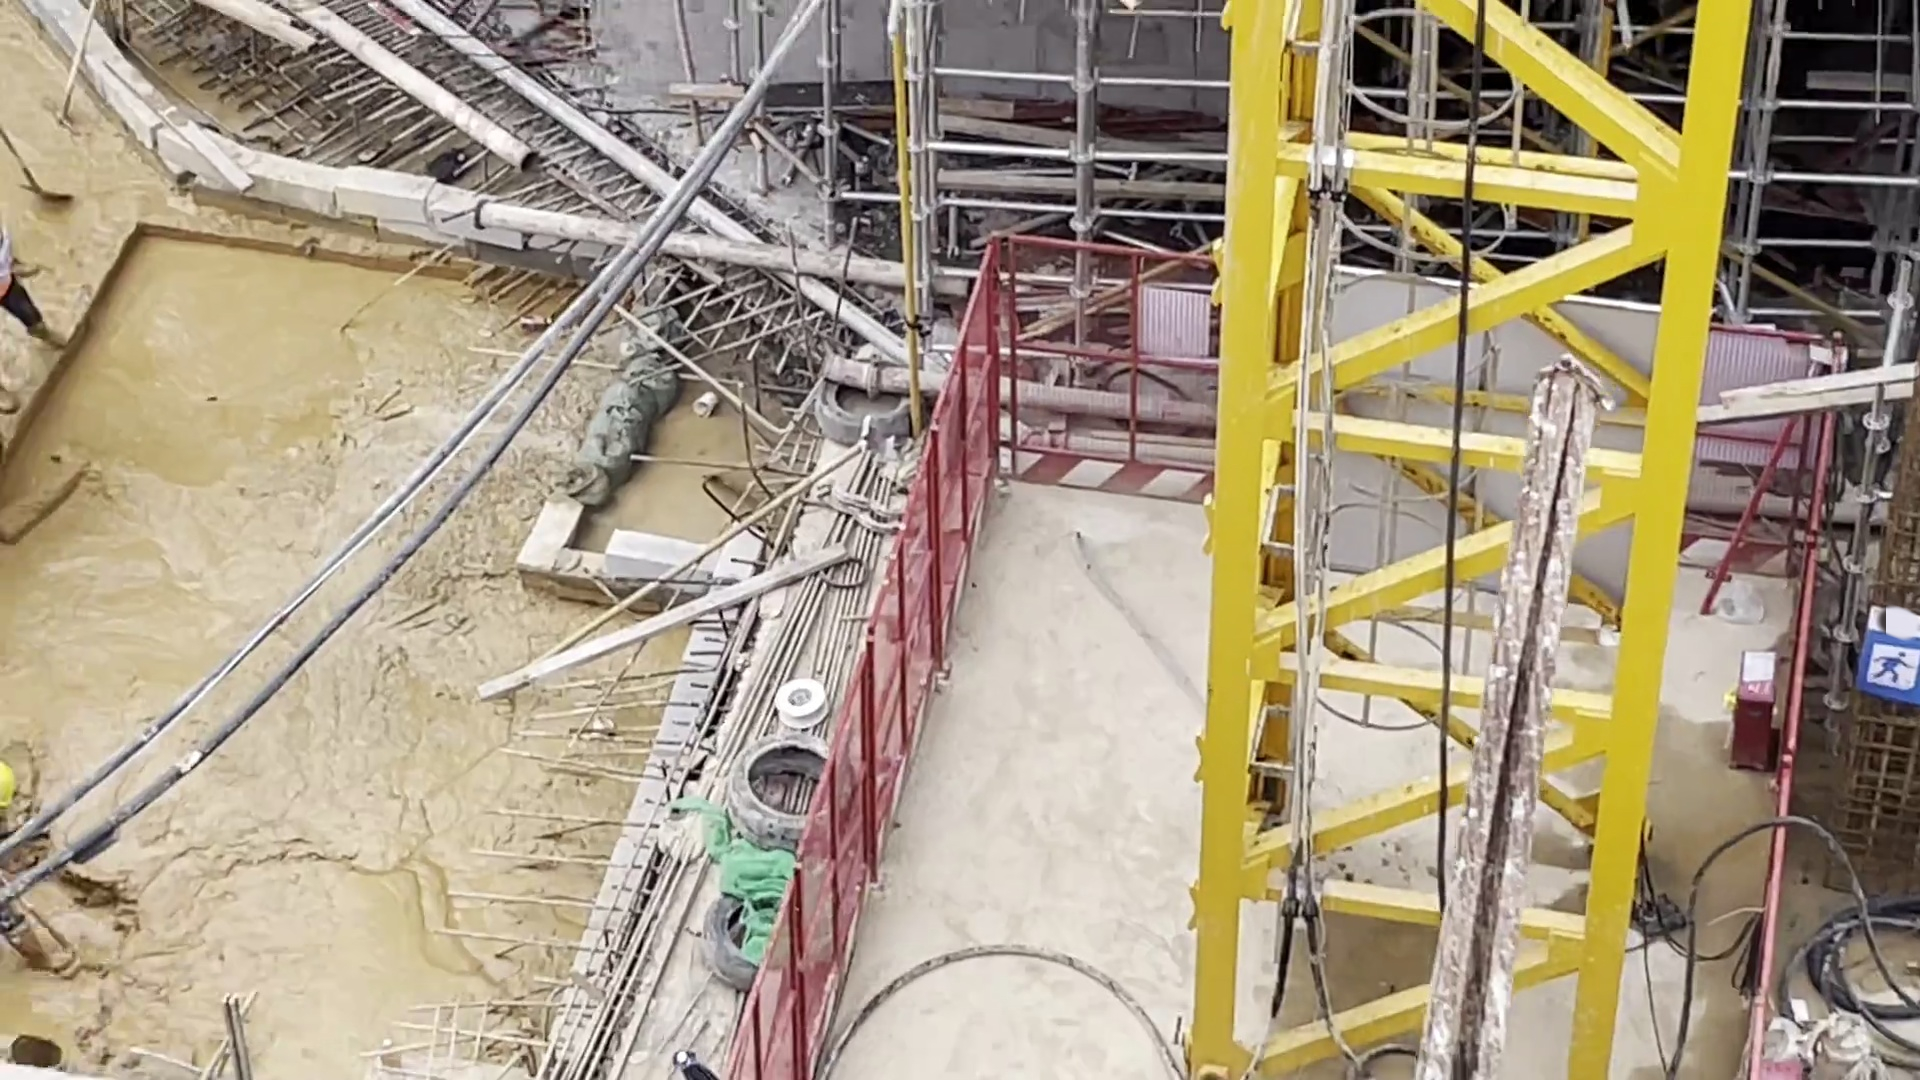fence: (709, 215, 1029, 1080), (996, 214, 1874, 491), (1739, 331, 1840, 1080)
